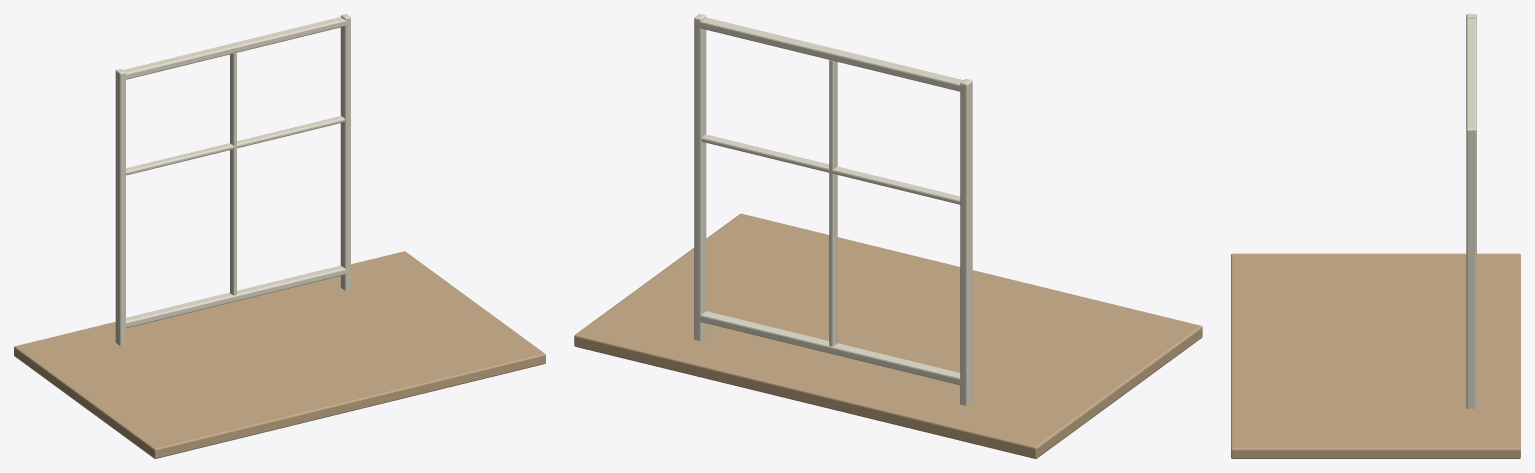
Rendered from window-v01.glb.
3 views of the same model, side by side, from view 1: azimuth 30°, elevation 25°; view 2: azimuth 150°, elevation 25°; view 3: azimuth 270°, elevation 25° (orthographic). The views are drawn at different scales.
Parts seen in each view (by area): view 1: Windowsill, WindowLeft, WindowRight, WindowTop, WindowBottom, WindowMullion, WindowCross; view 2: Windowsill, WindowLeft, WindowRight, WindowTop, WindowBottom, WindowMullion, WindowCross; view 3: Windowsill, WindowRight, WindowTop.
Boxes of the visible parts, x1,y1,x2,y2 form: Windowsill: [14, 251, 545, 458]; WindowLeft: [115, 69, 125, 345]; WindowRight: [340, 14, 350, 290]; WindowTop: [122, 17, 346, 79]; WindowBottom: [122, 265, 346, 328]; WindowMullion: [230, 53, 236, 295]; WindowCross: [126, 116, 344, 175]; Windowsill: [574, 213, 1202, 458]; WindowLeft: [960, 79, 972, 405]; WindowRight: [694, 14, 706, 340]; WindowTop: [699, 17, 963, 91]; WindowBottom: [696, 311, 960, 385]; WindowMullion: [829, 60, 837, 346]; WindowCross: [701, 134, 960, 204]; Windowsill: [1231, 253, 1520, 458]; WindowRight: [1466, 126, 1476, 408]; WindowTop: [1466, 18, 1476, 127].
Bounding box in the file's own units: 8 × 5.52 × 5.
